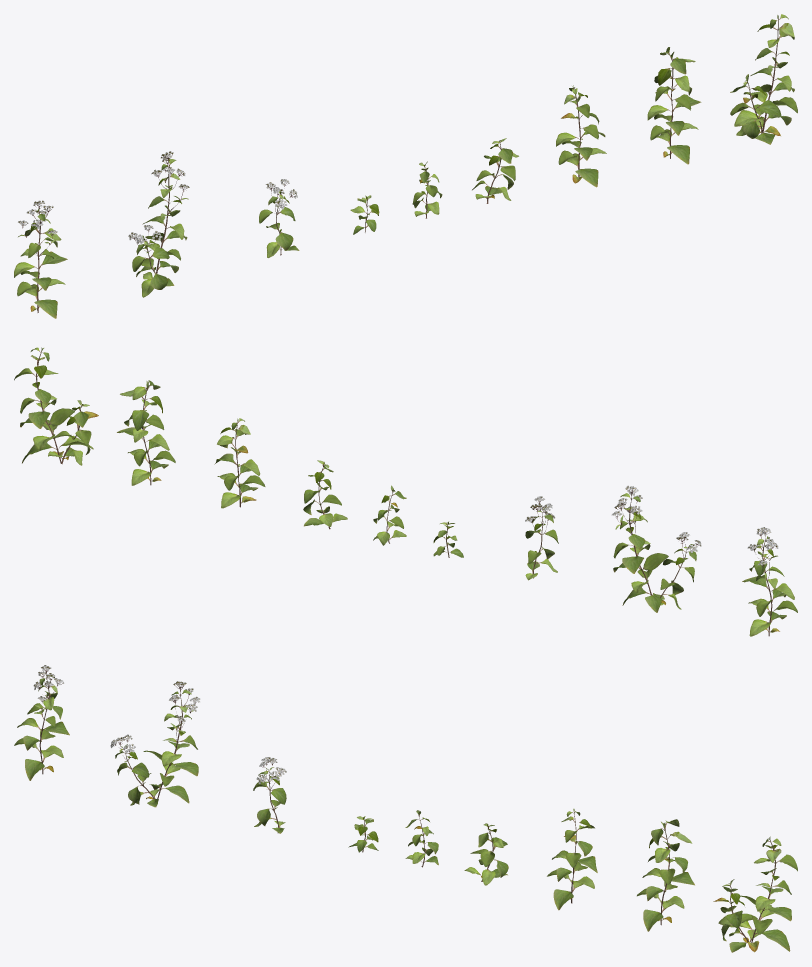
File: shrub.glb
3 renders of one model, top to bottom at view 1: azimuth 30°, elevation 25°; view 2: azimuth 150°, elevation 25°; view 3: azimuth 330°, elevation 25°, orthographic. The views are drawn at different scales.
Visible parts, largest first — view 1: shrub_01_a; view 2: shrub_01_a; view 3: shrub_01_a.
Boxes of the visible parts, <box> form: shrub_01_a: <box>14,14,797,318</box>; shrub_01_a: <box>14,347,797,636</box>; shrub_01_a: <box>14,665,797,952</box>.
Size of the model in its own units: 2.59 by 0.3956 by 0.2178.
1 material, 1 textured.
